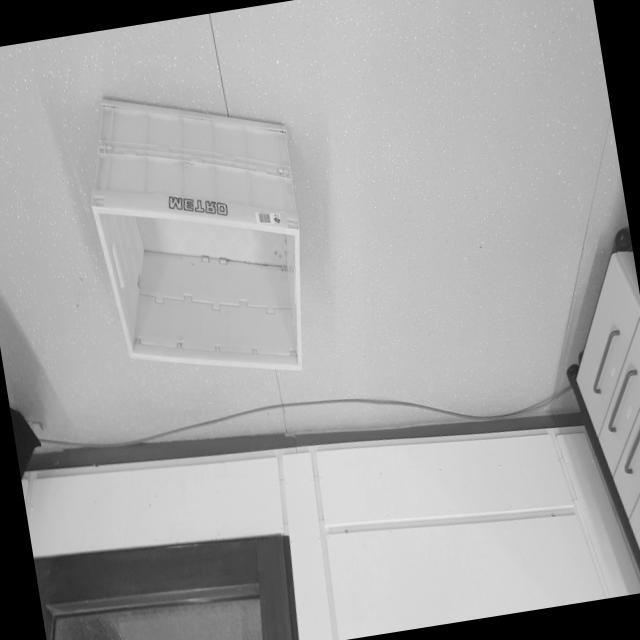box: (66, 59, 332, 406)
